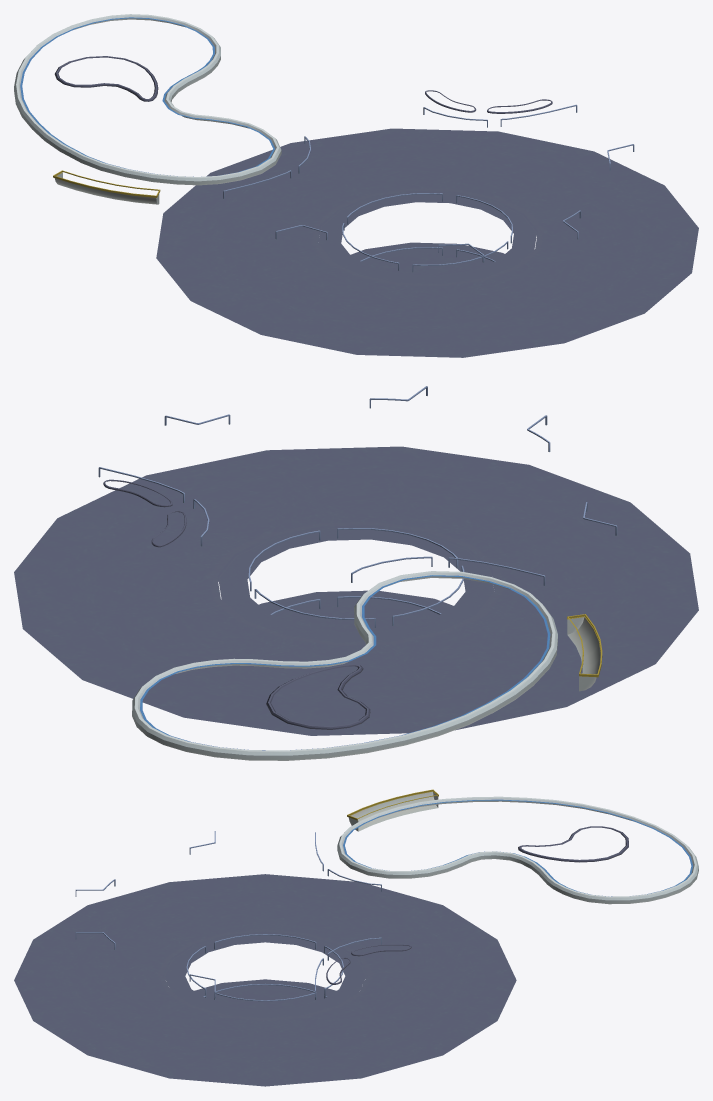
File: mesh_1002_jxl_008.FBX
3 views of the same model, one above another, from view 1: azimuth 30°, elevation 25°; view 2: azimuth 150°, elevation 25°; view 3: azimuth 270°, elevation 25° (orthographic). The views are drawn at different scales.
Visible parts, largest first — view 1: mesh_1002_jxl_008; view 2: mesh_1002_jxl_008; view 3: mesh_1002_jxl_008.
Part boxes in pixels (left/top/right/bottom): mesh_1002_jxl_008: left=14, top=14, right=698, bottom=357; mesh_1002_jxl_008: left=14, top=386, right=698, bottom=760; mesh_1002_jxl_008: left=14, top=789, right=698, bottom=1086.
Bounding box in the file's own units: 5828 × 1369 × 7236.
